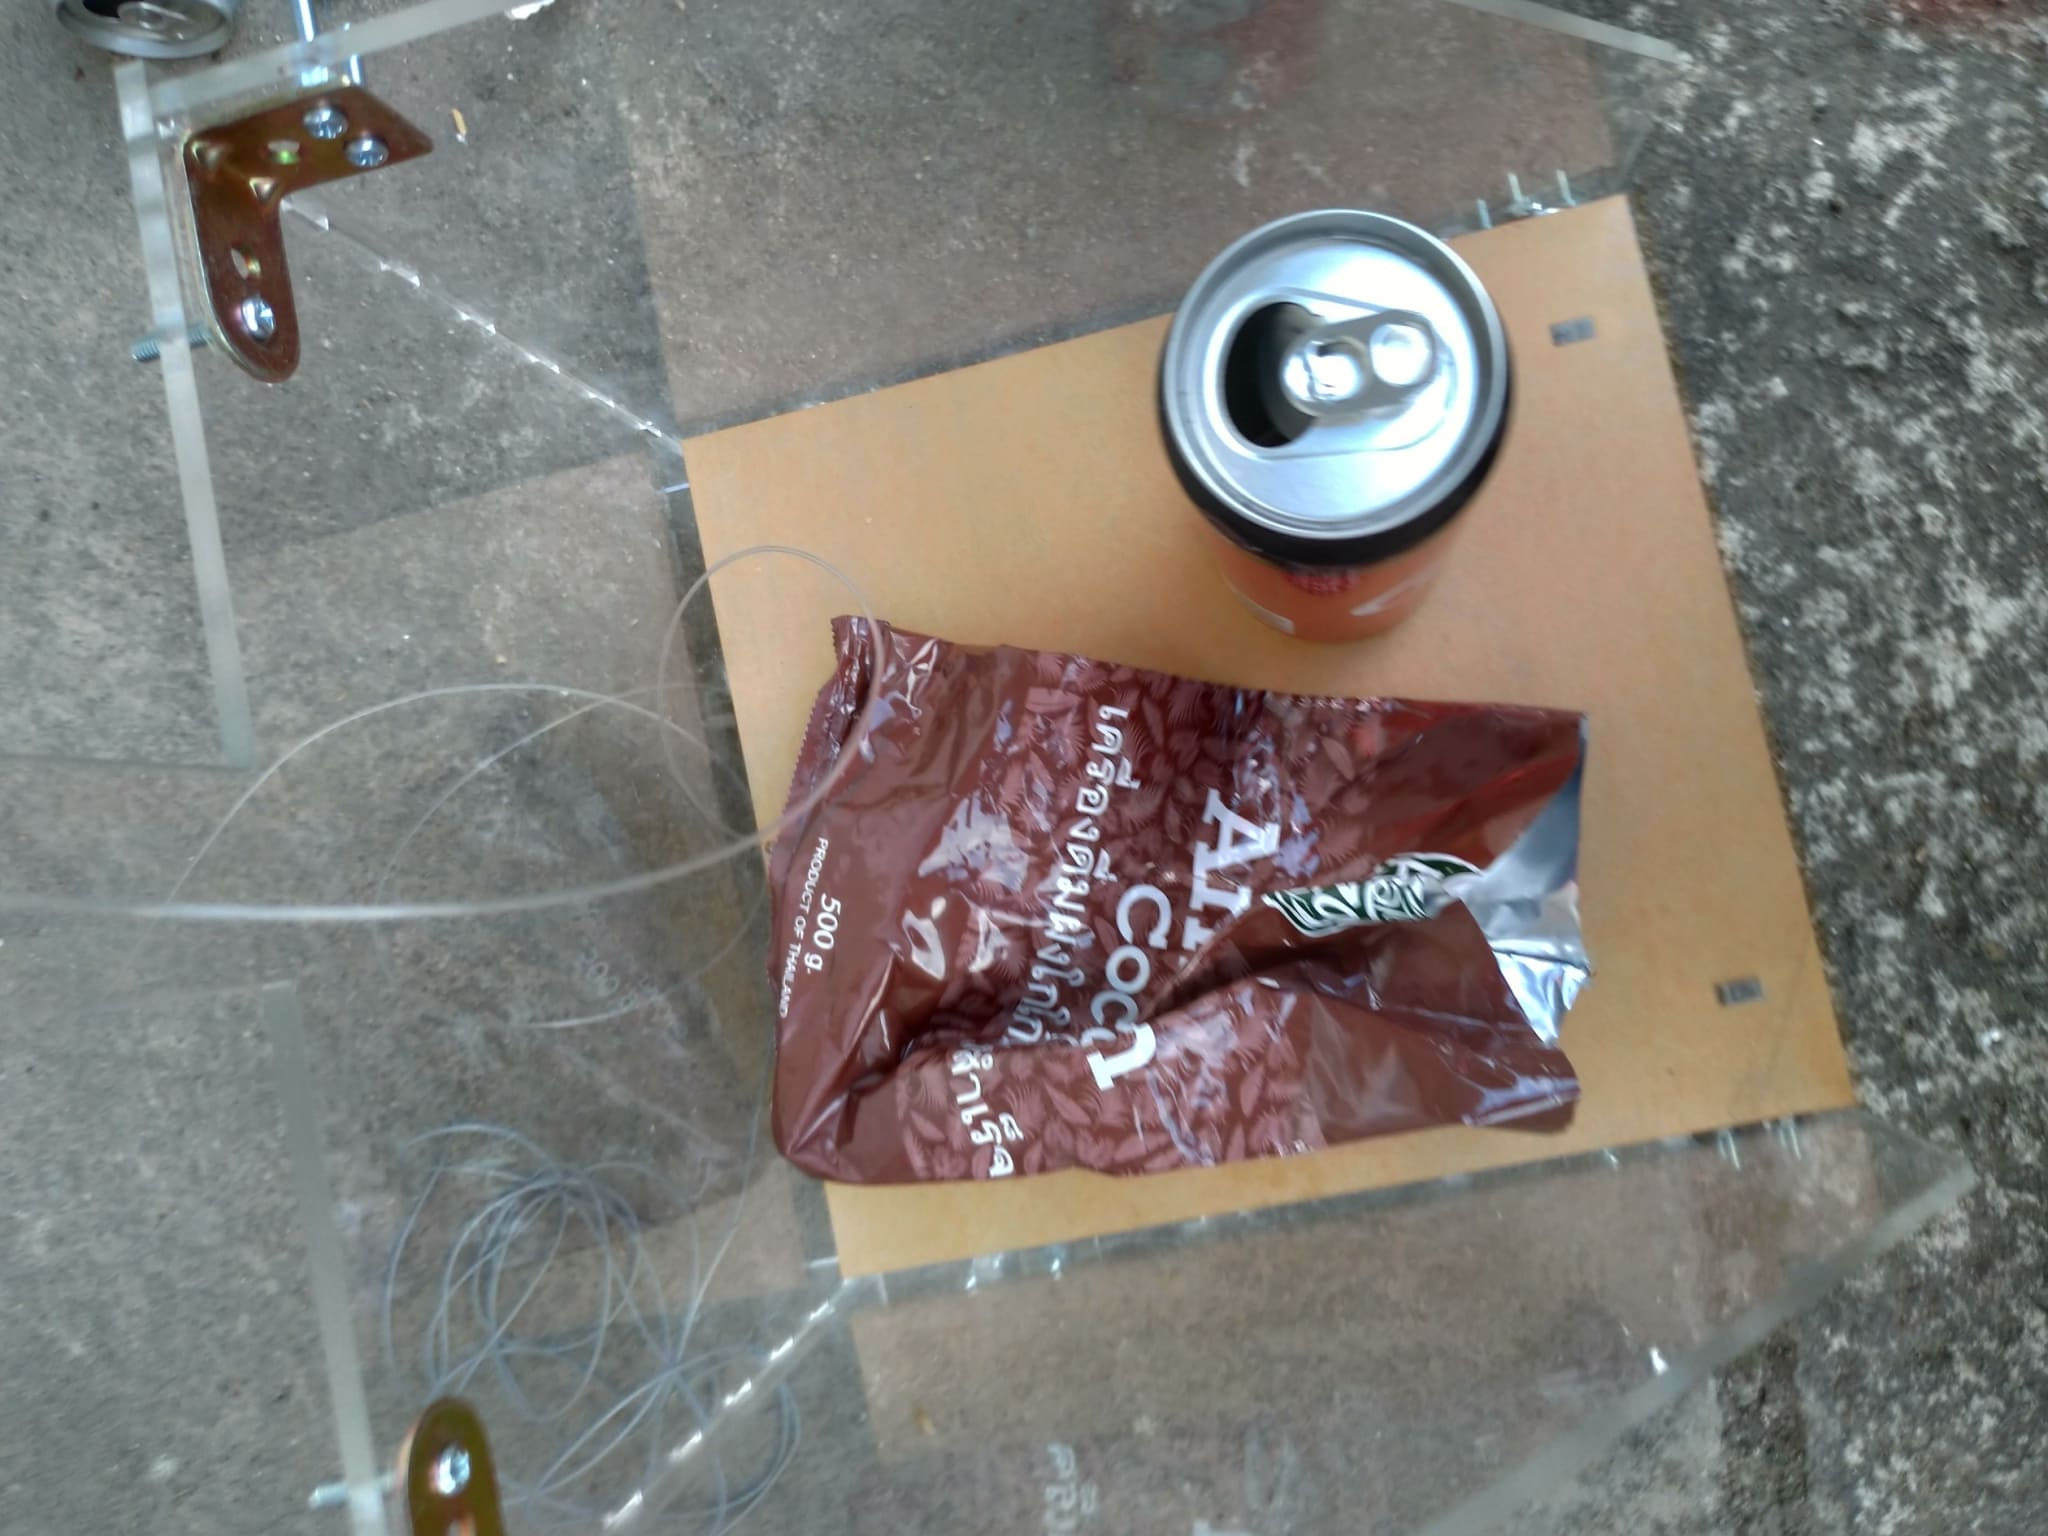AlCan: (1143, 198, 1516, 645)
Others: (760, 611, 1592, 1179)
